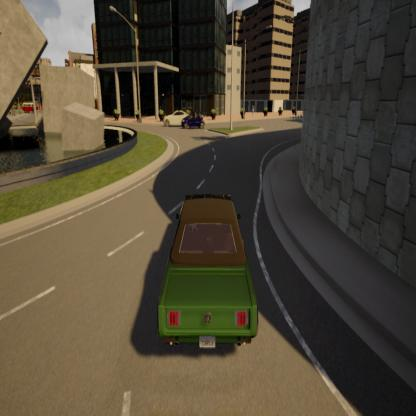Cars: (153, 185, 264, 365), (165, 106, 194, 130), (182, 109, 206, 130)
